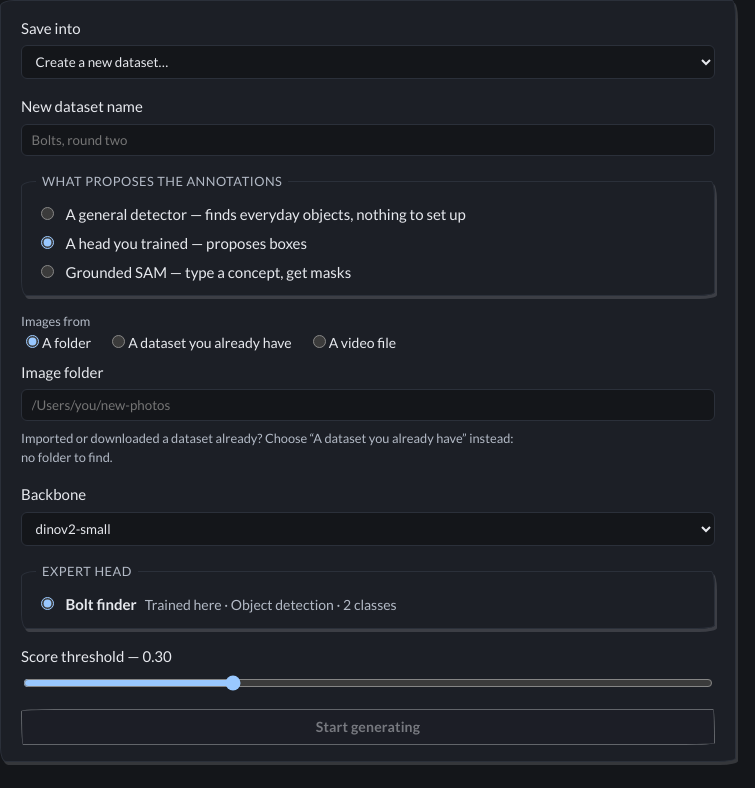
Test: saying what will be saved (doc 67) › tells a mask run that it also gets boxes
Expected: the radio button labelled "Bolt finder Trained here · Object detection · 2 classes" is shown, [41, 597, 54, 610]
Click the radio button labelled "Grounded SAM — type a concept, get masks".
click(48, 271)  # box [41, 265, 54, 278]
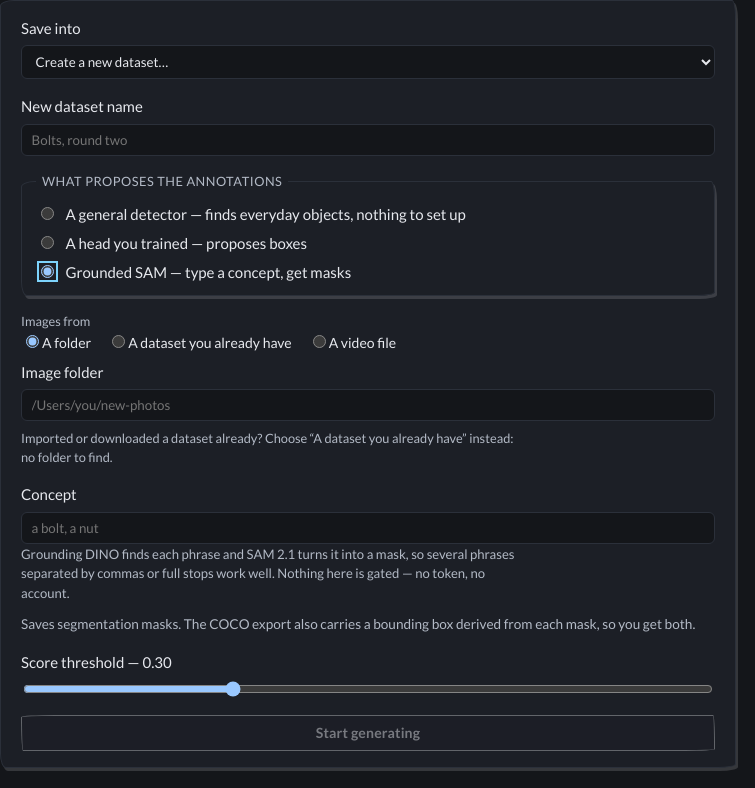
Expected: the text "bounding box derived from each mask" is shown, [21, 616, 695, 632]
